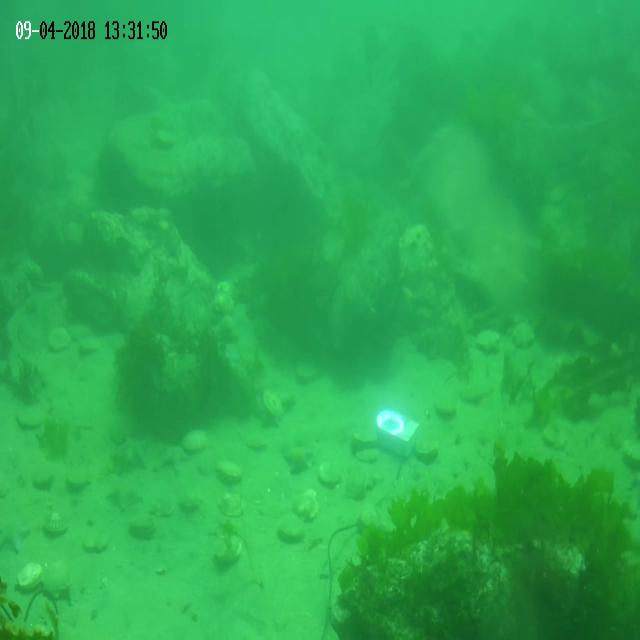scallop: (40, 558, 74, 603), (208, 532, 244, 565), (14, 402, 46, 432), (216, 489, 246, 520), (278, 511, 306, 544), (14, 562, 44, 592), (42, 508, 70, 538), (128, 509, 156, 538), (296, 486, 318, 522), (81, 526, 109, 554), (542, 423, 569, 452), (347, 468, 369, 503), (317, 459, 343, 488), (351, 423, 379, 449), (47, 325, 72, 353), (294, 357, 320, 383), (475, 330, 501, 356), (216, 457, 243, 482), (182, 428, 209, 453), (513, 322, 536, 351), (212, 288, 235, 316), (179, 486, 203, 511), (416, 439, 440, 461), (153, 494, 175, 518), (78, 334, 102, 355), (67, 321, 93, 339), (154, 127, 174, 148), (215, 275, 233, 297), (355, 447, 379, 462)
starfish: (112, 431, 150, 472), (105, 477, 143, 515), (281, 439, 315, 478), (0, 512, 31, 554), (254, 398, 285, 432), (158, 440, 189, 473)
